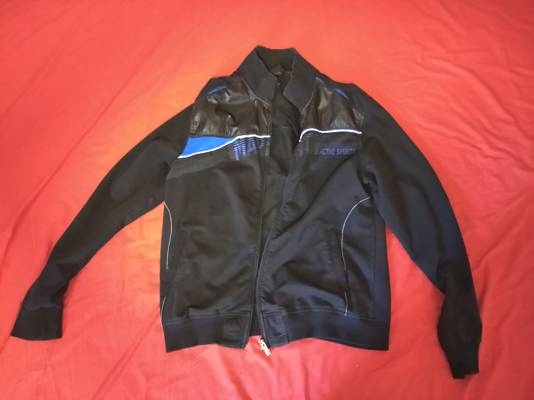Blazer: (11, 48, 494, 382)
